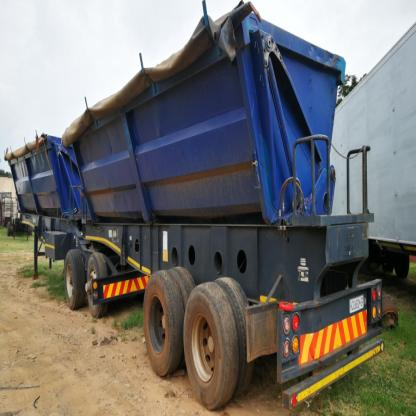dump_truck: (7, 6, 386, 412)
